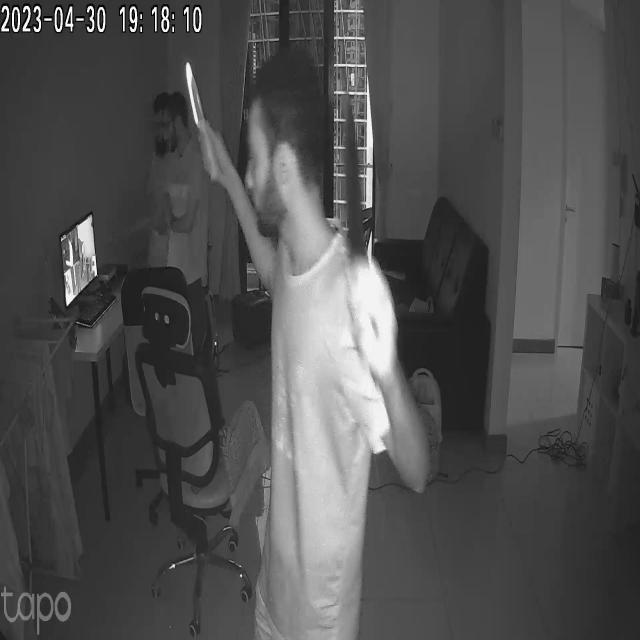Knife: (182, 45, 214, 128)
